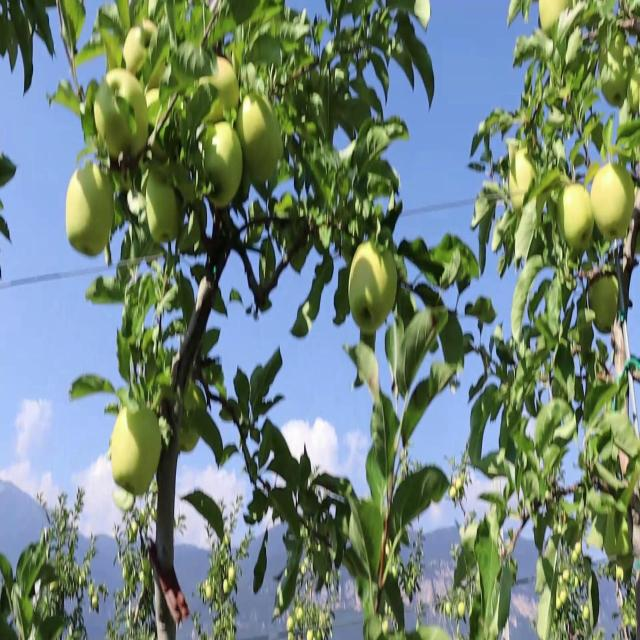apple: (100, 71, 152, 164), (112, 405, 164, 498), (68, 163, 115, 261), (352, 241, 400, 332), (240, 85, 283, 171), (204, 120, 244, 212), (592, 163, 636, 244), (244, 113, 285, 190), (240, 85, 280, 156), (600, 28, 633, 110), (148, 177, 185, 247), (560, 184, 595, 256), (208, 142, 244, 212), (204, 56, 241, 123), (368, 248, 399, 327), (124, 14, 160, 82), (244, 135, 283, 197), (588, 277, 620, 336), (600, 49, 630, 110), (125, 92, 151, 162), (508, 149, 536, 213), (208, 165, 239, 212), (176, 207, 202, 258), (540, 0, 571, 41), (352, 305, 383, 341), (128, 469, 155, 503), (180, 419, 201, 457), (116, 490, 136, 514), (292, 248, 309, 276), (632, 78, 640, 117)
